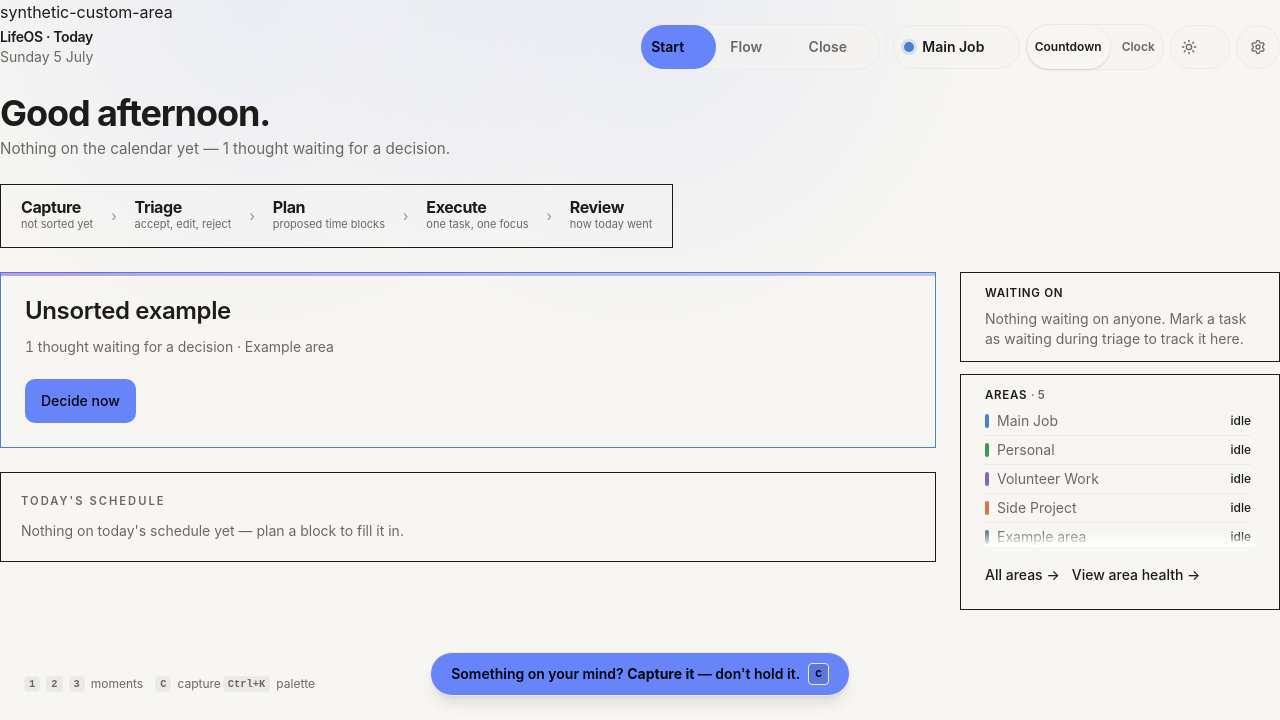
Test: Capture destination and return path › opens a new composer when the selected area has no counted captures
The image size is (1280, 720).
Expected: the text with test id "pipeline-overview-caption-capture" reads "not sorted yet", [21, 217, 93, 231]
Click the button with test id "pipeline-overview-stage-capture". click: (57, 216)
box: [5, 189, 109, 242]
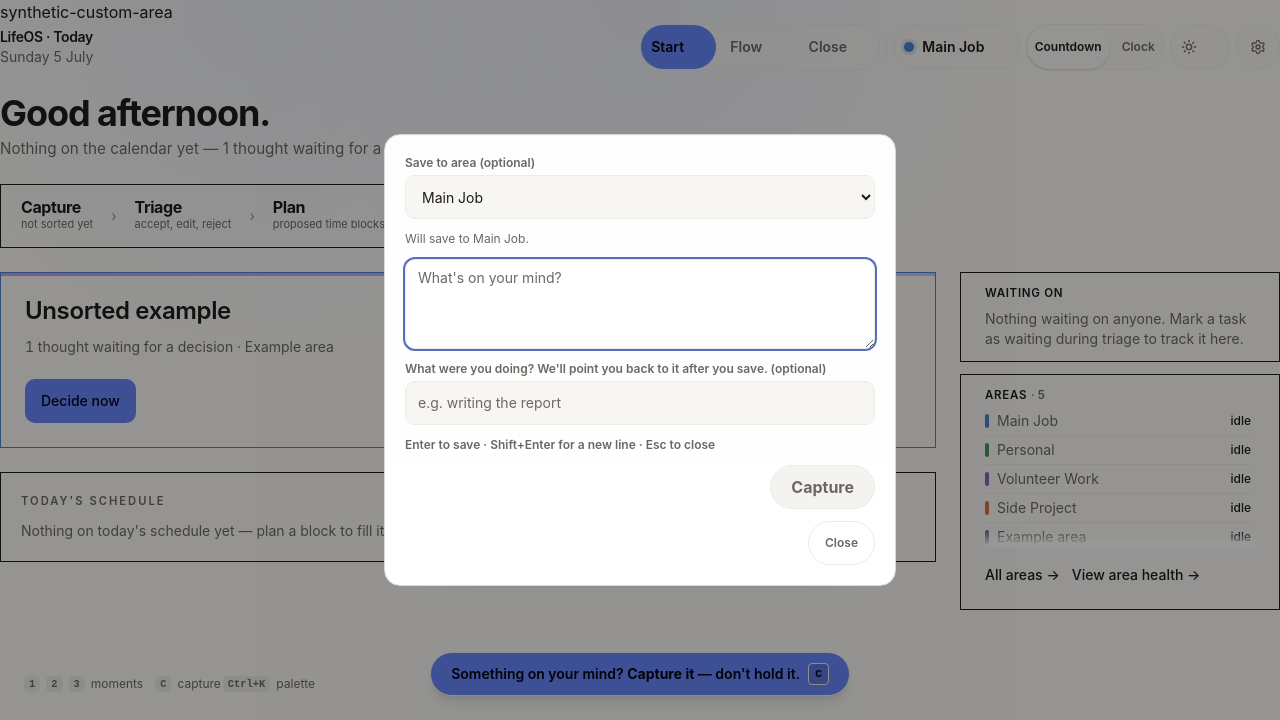
Expected: the dialog named "Capture a thought" is shown, [384, 134, 896, 586]
